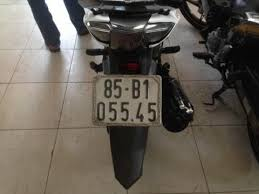number-plate: (95, 75, 161, 125)
